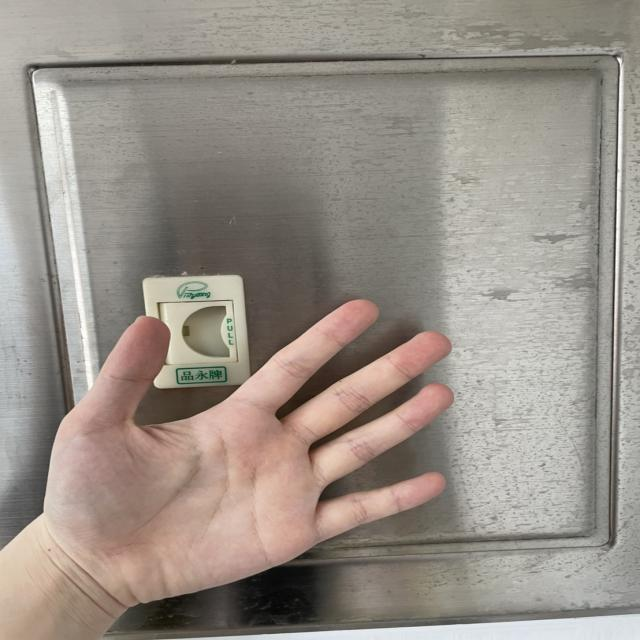hand: (23, 268, 466, 622)
